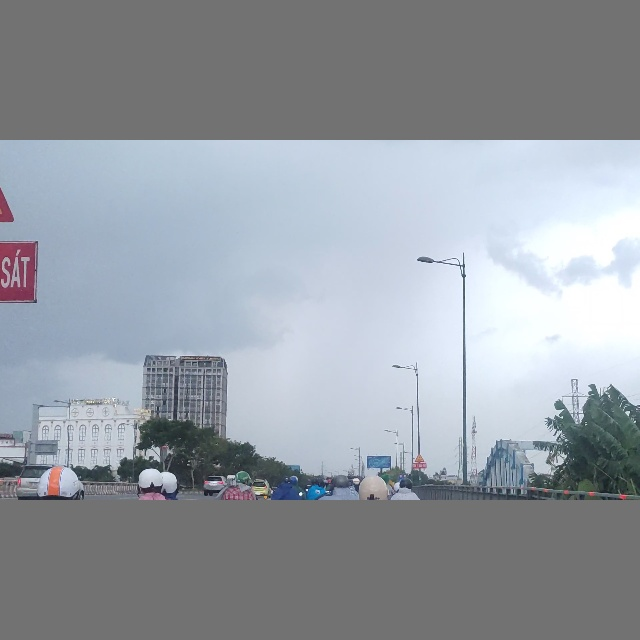W.245a: (414, 453, 425, 462)
